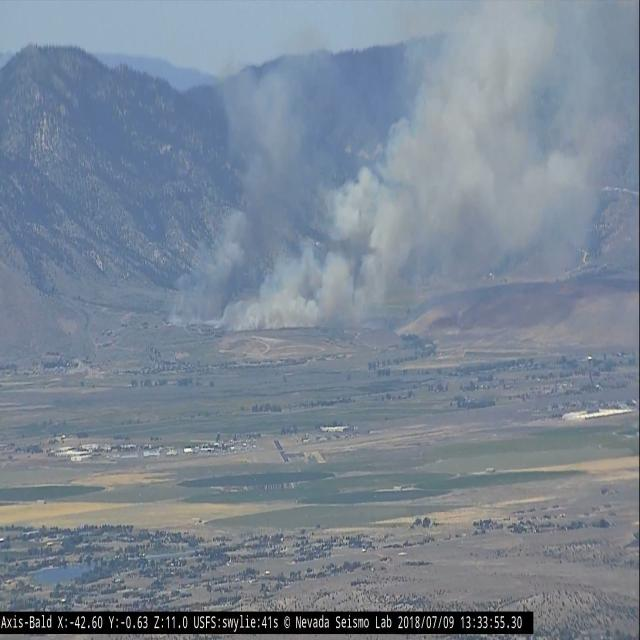smoke: (166, 0, 640, 330)
